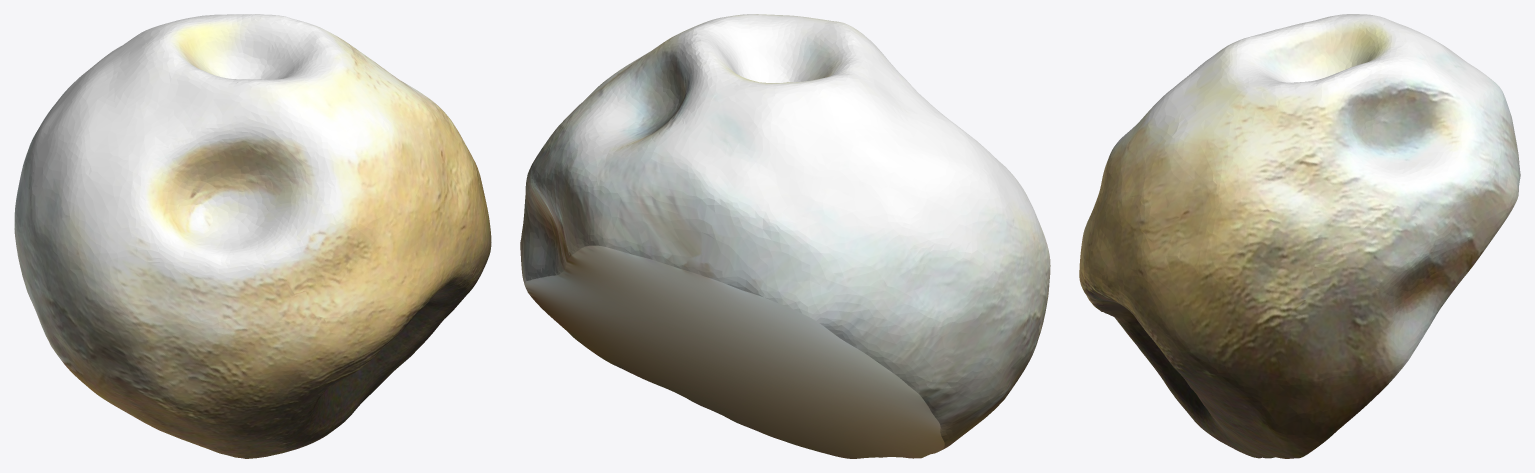
Rendered from rock.glb.
The picture shows the model from 3 angles, left to right: view 1: azimuth 30°, elevation 25°; view 2: azimuth 150°, elevation 25°; view 3: azimuth 270°, elevation 25°; orthographic projection. The views are drawn at different scales.
Visible parts, largest first — view 1: model_mesh; view 2: model_mesh; view 3: model_mesh.
Part boxes in pixels (left/top/right/bottom): model_mesh: left=14, top=14, right=491, bottom=458; model_mesh: left=520, top=14, right=1050, bottom=458; model_mesh: left=1079, top=14, right=1520, bottom=458.
Size of the model in its own units: 0.0934 by 0.0817 by 0.0828.
1 material, 1 textured.
